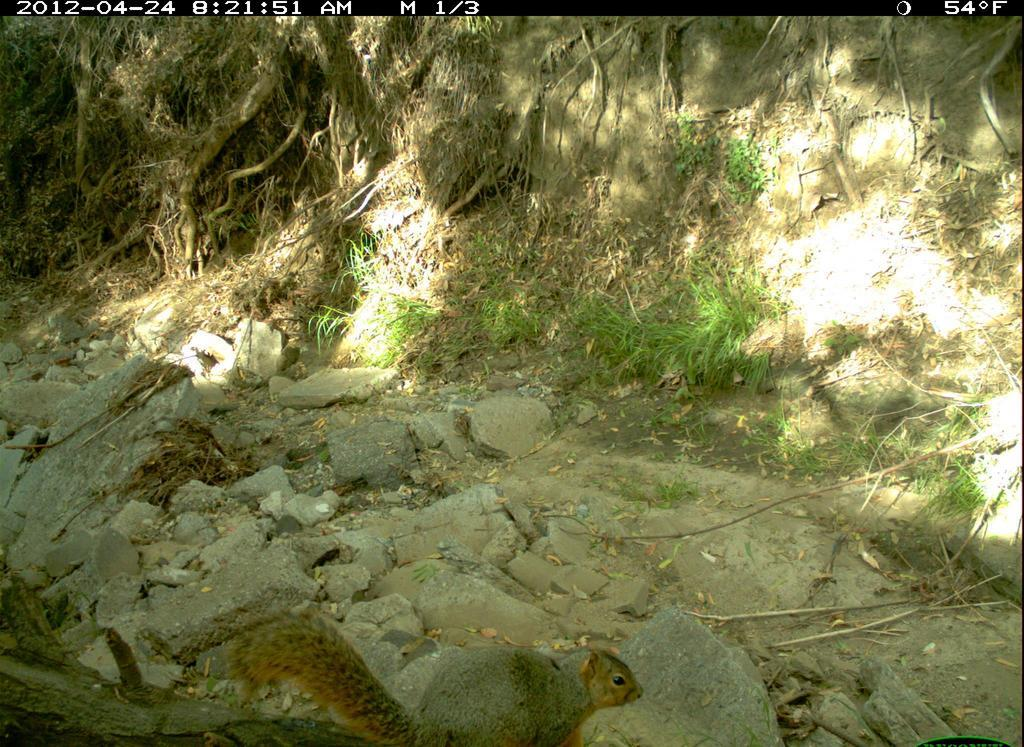squirrel: (225, 618, 653, 747)
